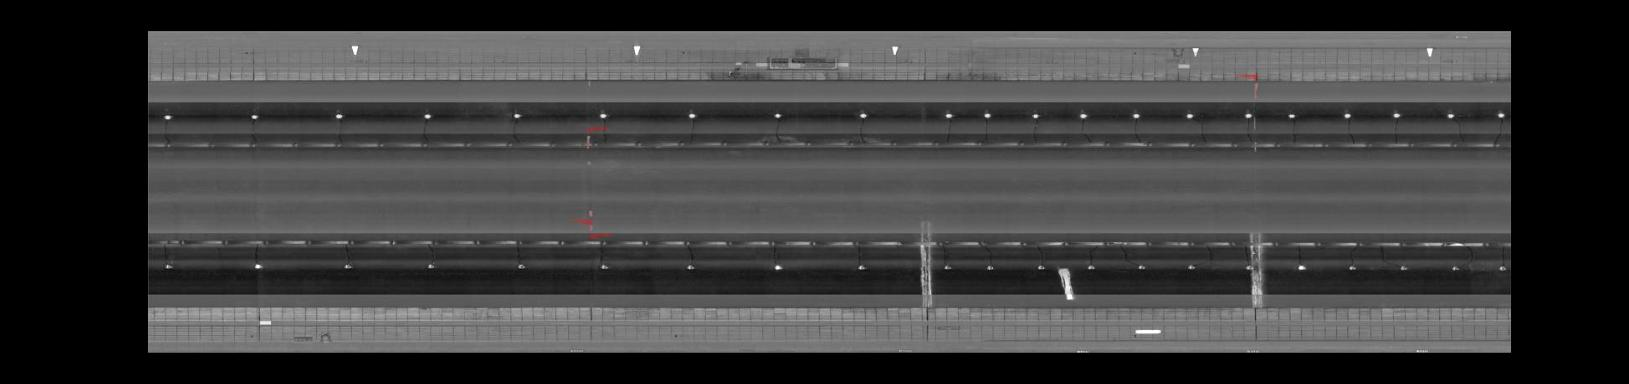light: (851, 109, 873, 121), (767, 260, 787, 273), (339, 260, 357, 273), (594, 109, 613, 121), (680, 260, 699, 273), (684, 109, 701, 121), (770, 109, 787, 121), (512, 260, 531, 272), (160, 259, 177, 272), (419, 110, 435, 122), (1132, 260, 1149, 273), (1494, 260, 1507, 275), (249, 259, 265, 272), (509, 109, 525, 121), (1181, 109, 1198, 120), (852, 263, 870, 273), (1388, 109, 1404, 120), (1339, 109, 1355, 120), (1075, 109, 1091, 120), (423, 260, 439, 271), (1449, 260, 1463, 273), (1035, 262, 1049, 273), (1294, 260, 1309, 272), (1493, 109, 1507, 120), (1442, 109, 1457, 120), (244, 112, 262, 121), (159, 112, 175, 122), (331, 111, 347, 121), (596, 263, 612, 273), (941, 109, 957, 119), (979, 110, 994, 120), (1083, 263, 1099, 272), (1029, 109, 1042, 120), (982, 263, 996, 273), (1183, 263, 1198, 273), (1345, 262, 1360, 272), (1240, 109, 1255, 119), (940, 263, 954, 273), (1128, 110, 1142, 120), (1397, 263, 1410, 273), (1286, 110, 1299, 120), (1241, 263, 1254, 272)
